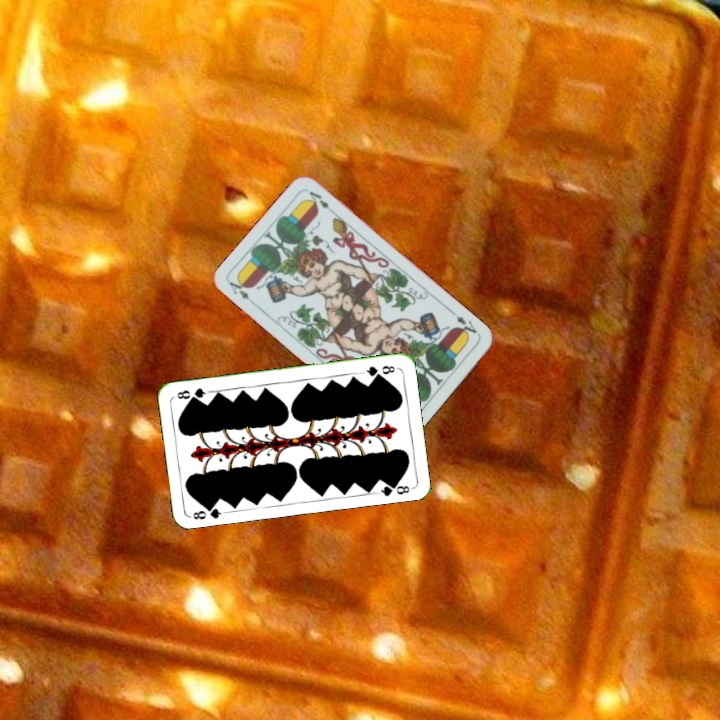EA: (448, 309, 482, 340), (225, 275, 252, 302)
G8: (187, 501, 228, 522), (359, 361, 398, 379)
